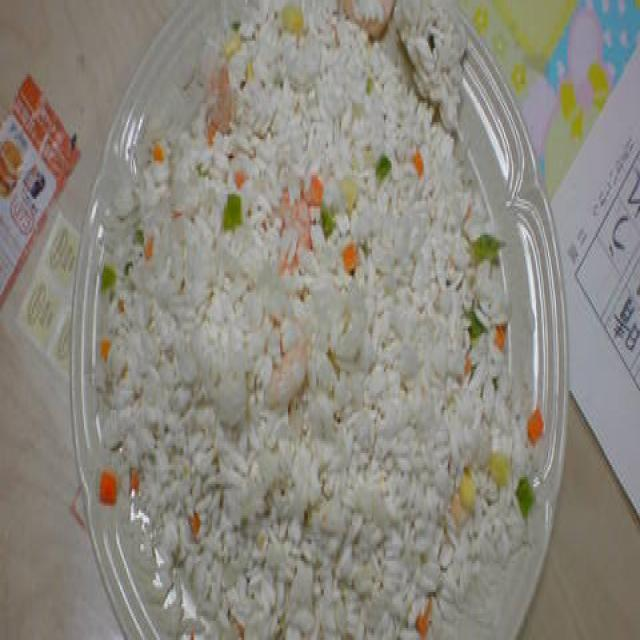米饭主食: (0, 208, 353, 640)
